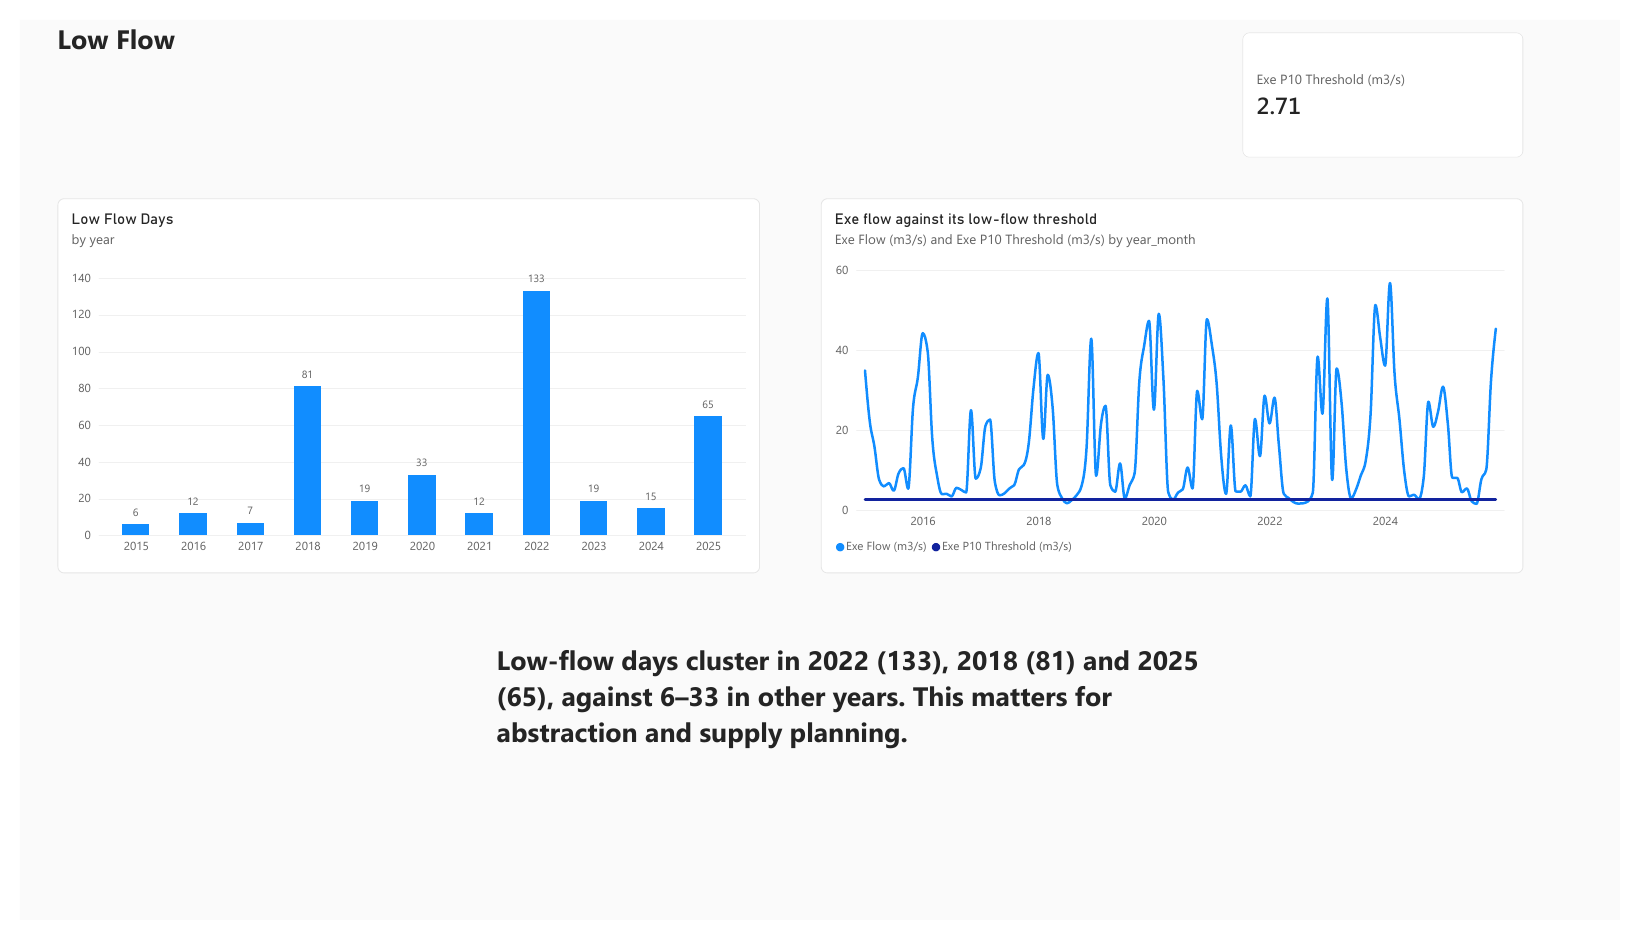

The dashboard page shown, as its layout file describes it:
{"tool":"powerbi","page":{"name":"Low Flow","canvas":[1920,1080],"ordinal":2},"visuals":[{"type":"clusteredColumnChart","fields":{"Category":["dim_date.year"],"Y":["_Measures.Low Flow Days"]},"box":[44.7,214.5,843.1,449.8],"z":0},{"type":"lineChart","title":"Exe flow against its low-flow threshold","fields":{"Category":["dim_date.year_month"],"Y":["_Measures.Exe Flow (m3/s)","_Measures.Exe P10 Threshold (m3/s)"]},"box":[960.7,214.5,843,450],"z":1000},{"type":"textbox","box":[572,746.3,843.1,196.6],"z":2000},{"type":"textbox","box":[44.7,0,843.1,90.9],"z":3000},{"type":"cardVisual","fields":{"Data":["_Measures.Exe P10 Threshold (m3/s)"]},"box":[1467.2,14.9,336.6,150.4],"z":4000}]}

Visuals, with their boxes in screenshot pixels (x1, y1, x2, y2), scaled from the page's 1920x1080 canvas onto the 1640x940 screenshot:
clusteredColumnChart - dim_date.year x _Measures.Low Flow Days: bbox=(38, 187, 758, 578)
"Exe flow against its low-flow threshold" lineChart: bbox=(821, 187, 1541, 578)
textbox: bbox=(489, 650, 1209, 821)
textbox: bbox=(38, 0, 758, 79)
cardVisual - _Measures.Exe P10 Threshold (m3/s): bbox=(1253, 13, 1541, 144)
